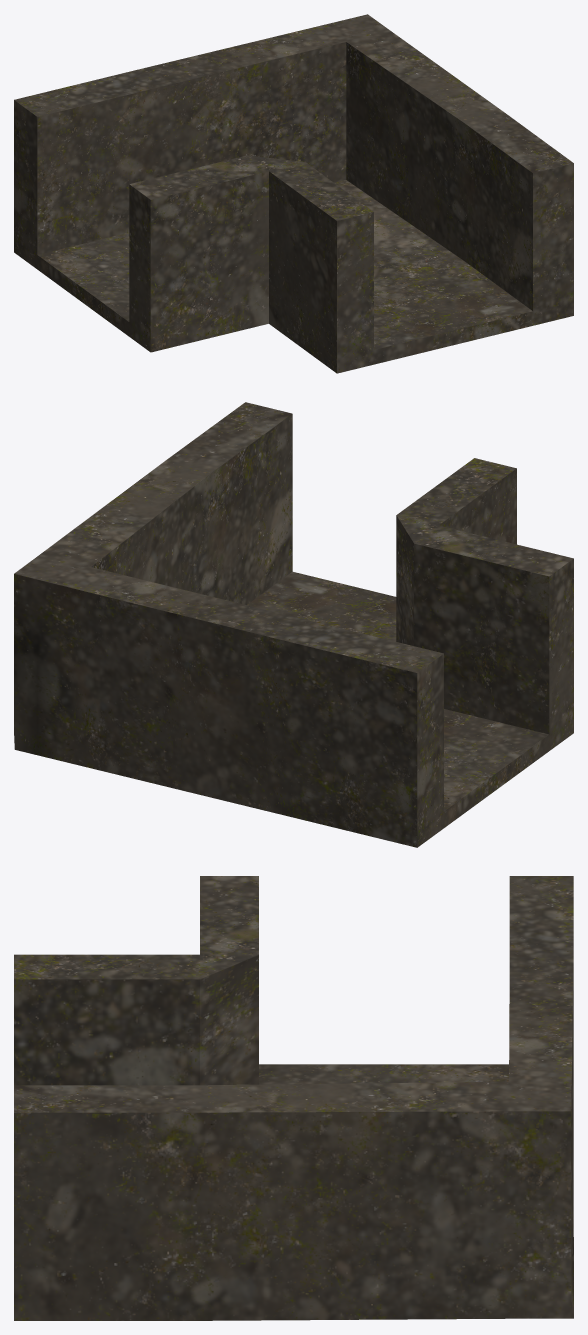
Rendered from Corner.fbx.
3 renders of one model, top to bottom at view 1: azimuth 30°, elevation 25°; view 2: azimuth 150°, elevation 25°; view 3: azimuth 270°, elevation 25°, orthographic. The views are drawn at different scales.
Parts seen in each view (by area): view 1: polySurface15; view 2: polySurface15; view 3: polySurface15.
Part boxes in pixels (bbox=[...]): polySurface15: bbox=[14, 14, 573, 373]; polySurface15: bbox=[14, 402, 573, 847]; polySurface15: bbox=[14, 876, 573, 1320].
Bounding box in the file's own units: 1262 × 518 × 1263.
Materials: 1 (1 with a texture image).
